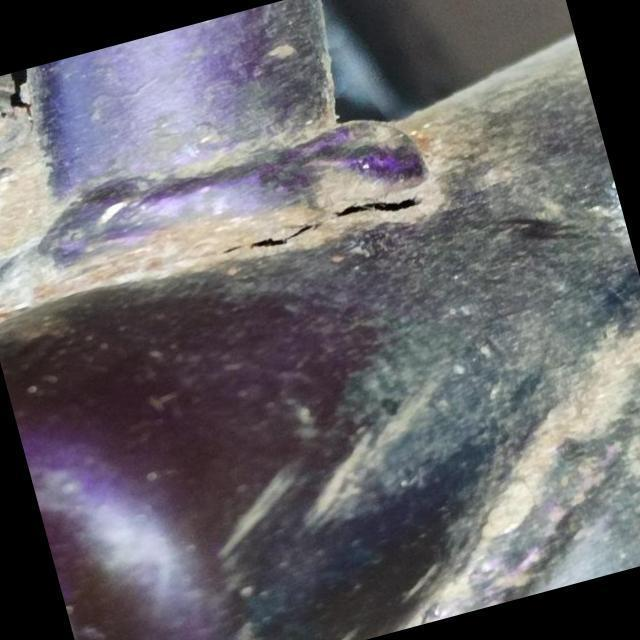defect: (218, 193, 431, 254)
